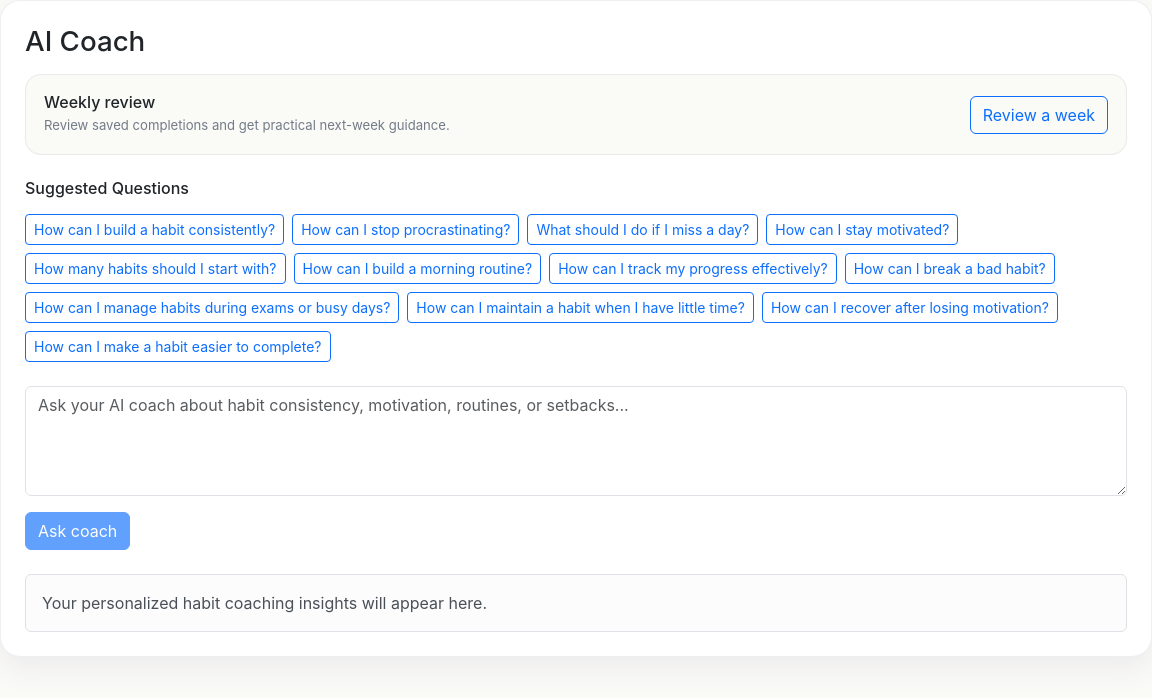
Scenario: CoachPage weekly review › loads a chosen week and clearly identifies local fallback guidance
Click the button "Review a week" at (1039, 115), box [970,96,1108,134]
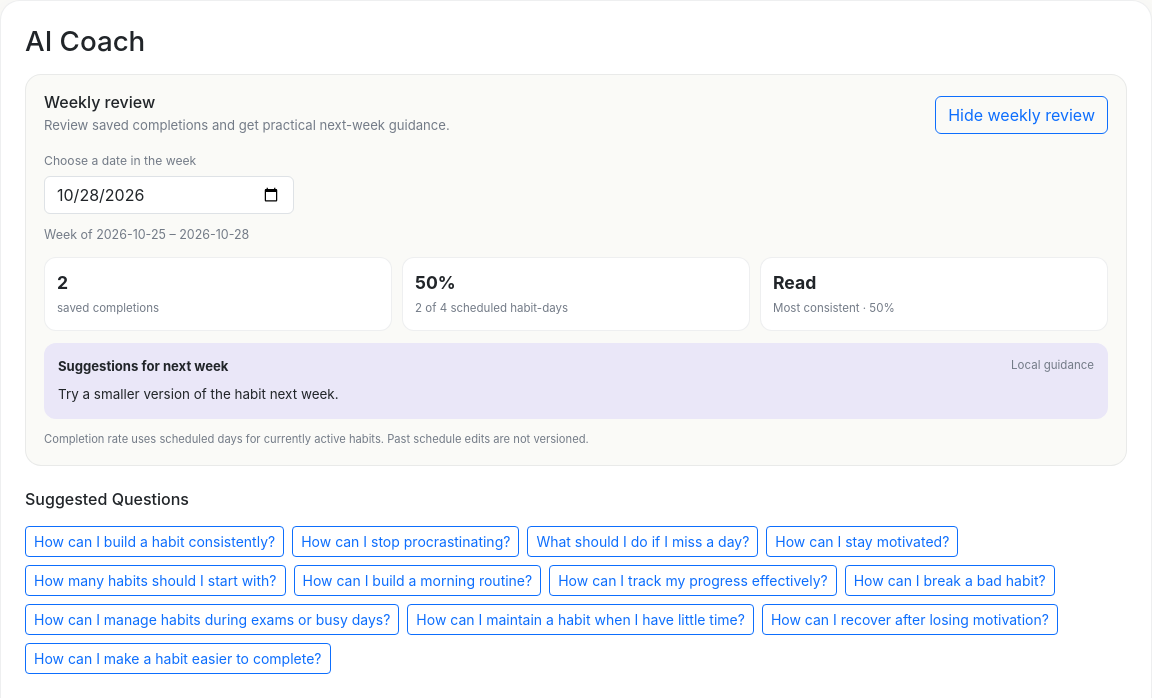
Now the text "Suggestions for next week" is shown, box [58,357,228,376]
Now the text "Local guidance" is shown, box [1011,357,1094,376]
Now the text "2 of 4 scheduled habit-days" is shown, box [415,302,568,316]
